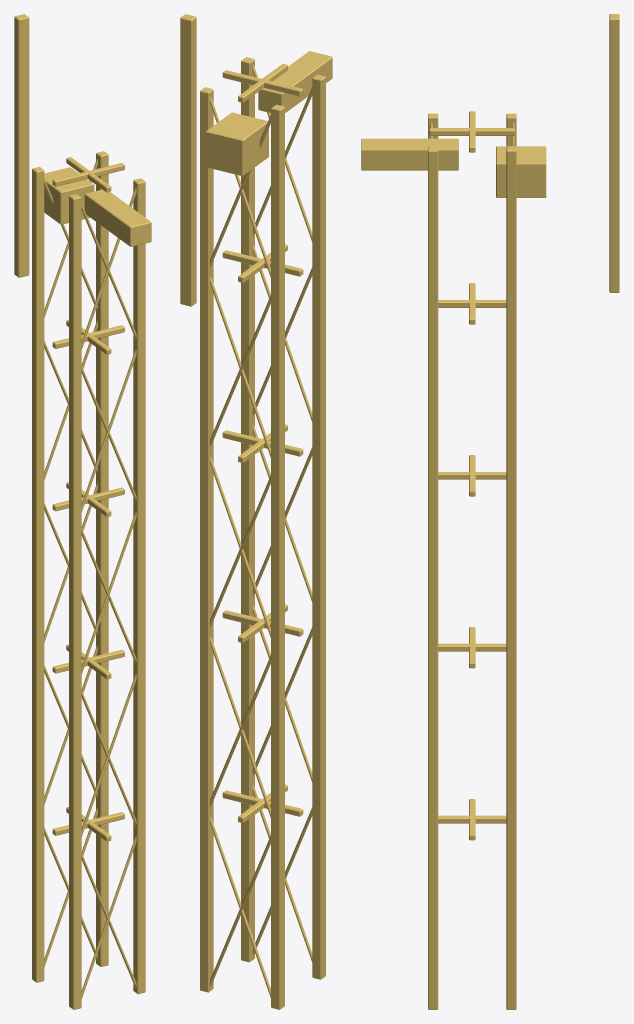
The model's file is SM_BgCrane_3x32x3.glb.
3 views of the same model, side by side, from view 1: azimuth 30°, elevation 25°; view 2: azimuth 150°, elevation 25°; view 3: azimuth 270°, elevation 25° (orthographic). The views are drawn at different scales.
Visible parts, largest first — view 1: SM_BgCrane_3x32x3; view 2: SM_BgCrane_3x32x3; view 3: SM_BgCrane_3x32x3.
Part boxes in pixels (bbox=[...]): SM_BgCrane_3x32x3: bbox=[14, 14, 151, 1009]; SM_BgCrane_3x32x3: bbox=[180, 14, 332, 1009]; SM_BgCrane_3x32x3: bbox=[361, 14, 619, 1009].
Size of the model in its own units: 3 by 36.31 by 8.73.
